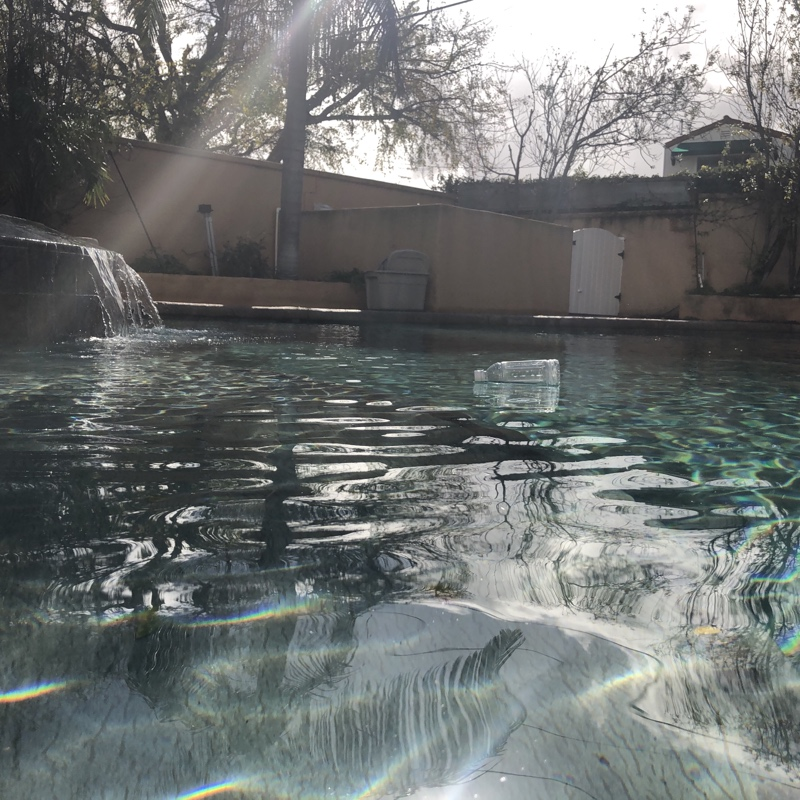Plastic Bottle: (468, 357, 561, 390)
